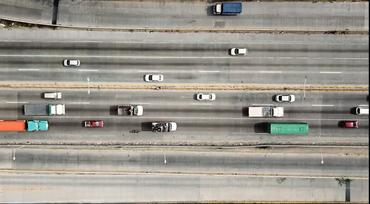car: (227, 43, 252, 61), (193, 90, 217, 106), (272, 91, 298, 105), (142, 71, 166, 86), (59, 56, 82, 70), (40, 90, 63, 103), (83, 118, 106, 131), (353, 103, 368, 118), (337, 120, 363, 128)
truck: (208, 0, 251, 21), (0, 119, 52, 135), (21, 103, 69, 118), (266, 122, 315, 136), (149, 120, 180, 135), (115, 103, 145, 118)
